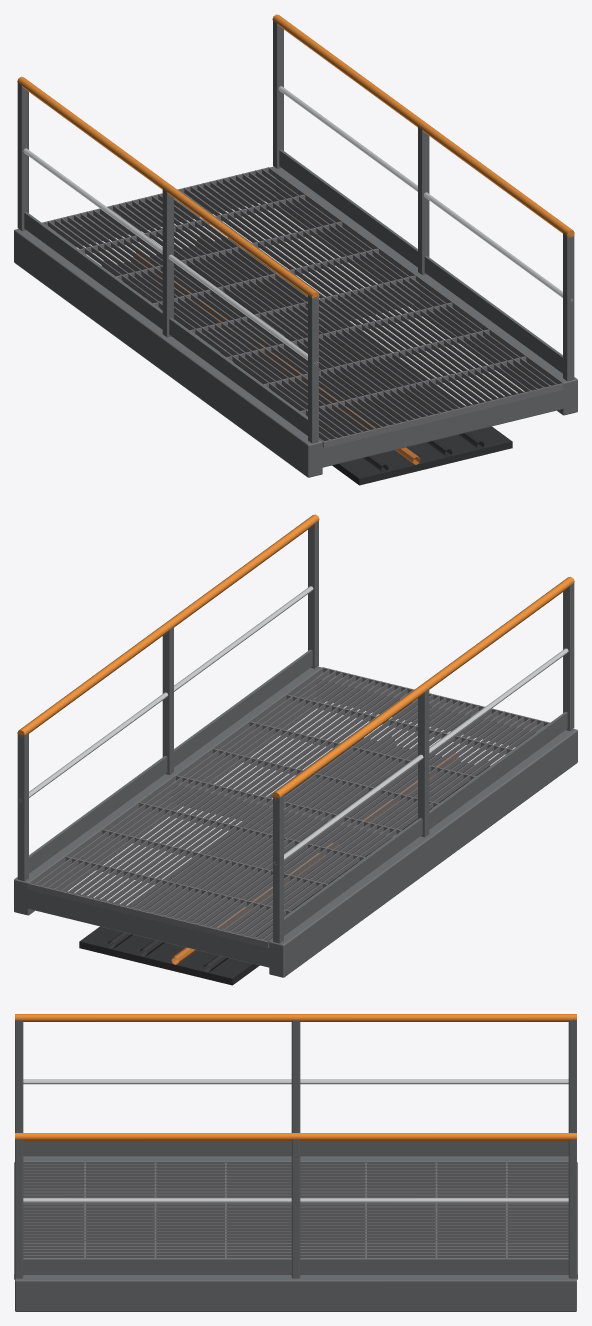
File: kit_catwalk.glb
3 views of the same model, one above another, from view 1: azimuth 30°, elevation 25°; view 2: azimuth 150°, elevation 25°; view 3: azimuth 270°, elevation 25° (orthographic). The views are drawn at different scales.
Parts seen in each view (by area): view 1: kit_catwalk; view 2: kit_catwalk; view 3: kit_catwalk.
Part boxes in pixels (x1,y1,x2,y2): kit_catwalk: [14, 14, 577, 485]; kit_catwalk: [14, 514, 577, 985]; kit_catwalk: [14, 1014, 577, 1311].
Bounding box in the file's own units: 2.12 × 1.58 × 4.01.
